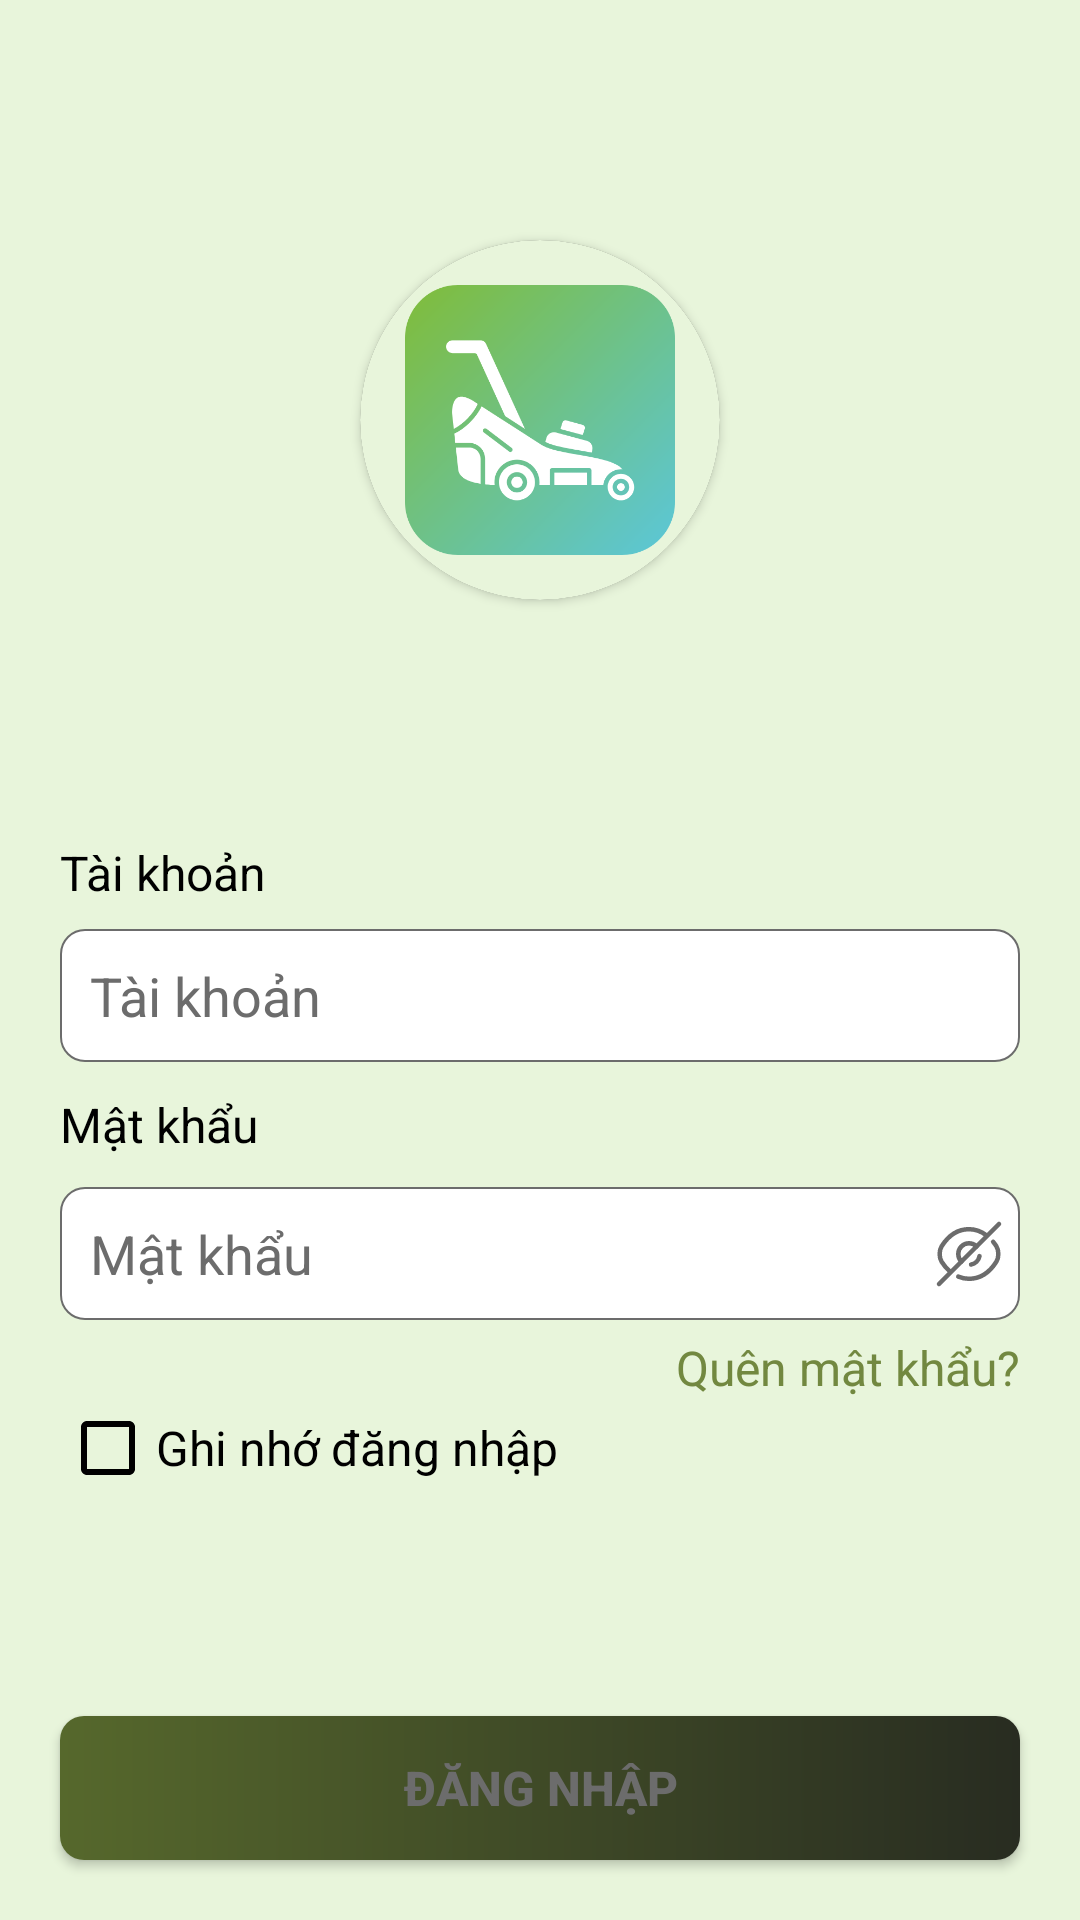

Named icons in this screenshot (1080 × 1920) and their bounding boxes, [left=x1, top=y1, right=x2, bottom=y2]:
hide: [left=937, top=1221, right=1001, bottom=1287]
